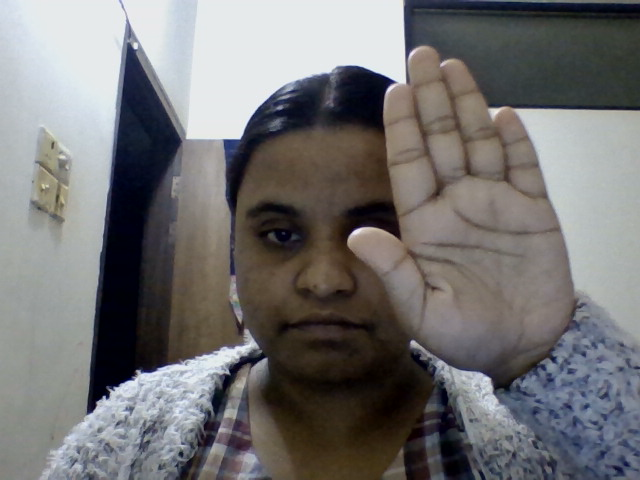hello: (341, 41, 625, 383)
